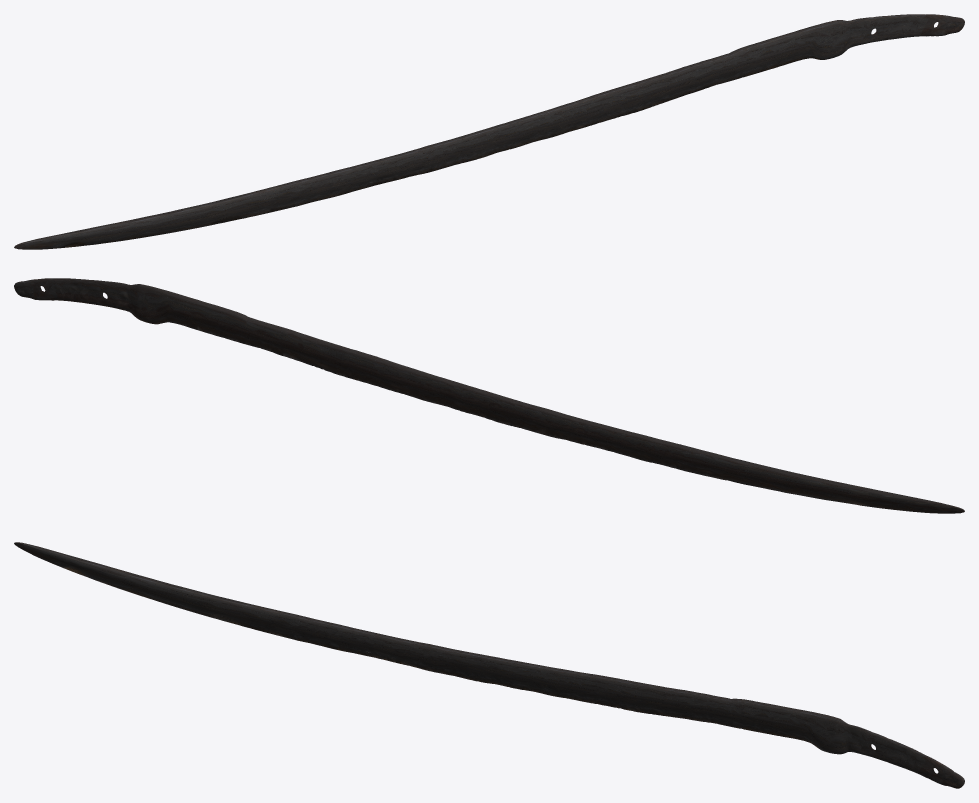
Rendered from _szabja_red_1.fbx.
3 renders of one model, top to bottom at view 1: azimuth 30°, elevation 25°; view 2: azimuth 150°, elevation 25°; view 3: azimuth 330°, elevation 25°, orthographic.
Parts seen in each view (by area): view 1: szabja_1; view 2: szabja_1; view 3: szabja_1.
Part boxes in pixels (bbox=[...]): szabja_1: bbox=[14, 14, 964, 249]; szabja_1: bbox=[14, 278, 964, 513]; szabja_1: bbox=[14, 542, 964, 788].
Size of the model in its own units: 33.27 by 1.81 by 0.3209.
1 material, 1 textured.
